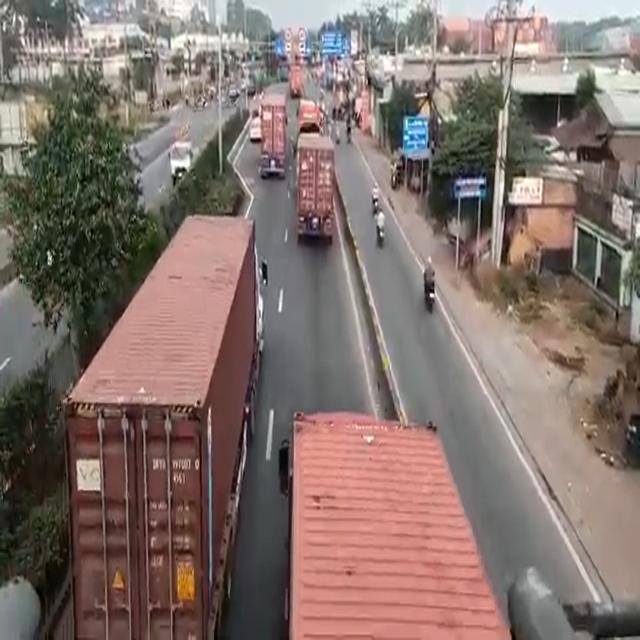truck: (62, 204, 260, 640), (280, 410, 506, 639), (294, 133, 336, 247), (259, 97, 287, 182)
